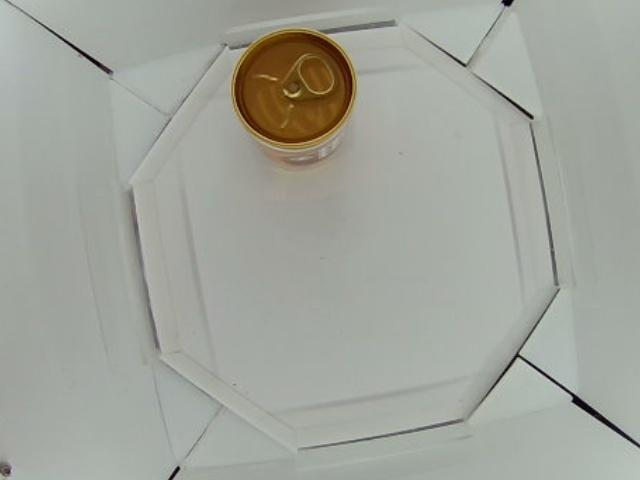Bottle: (230, 28, 358, 168)
